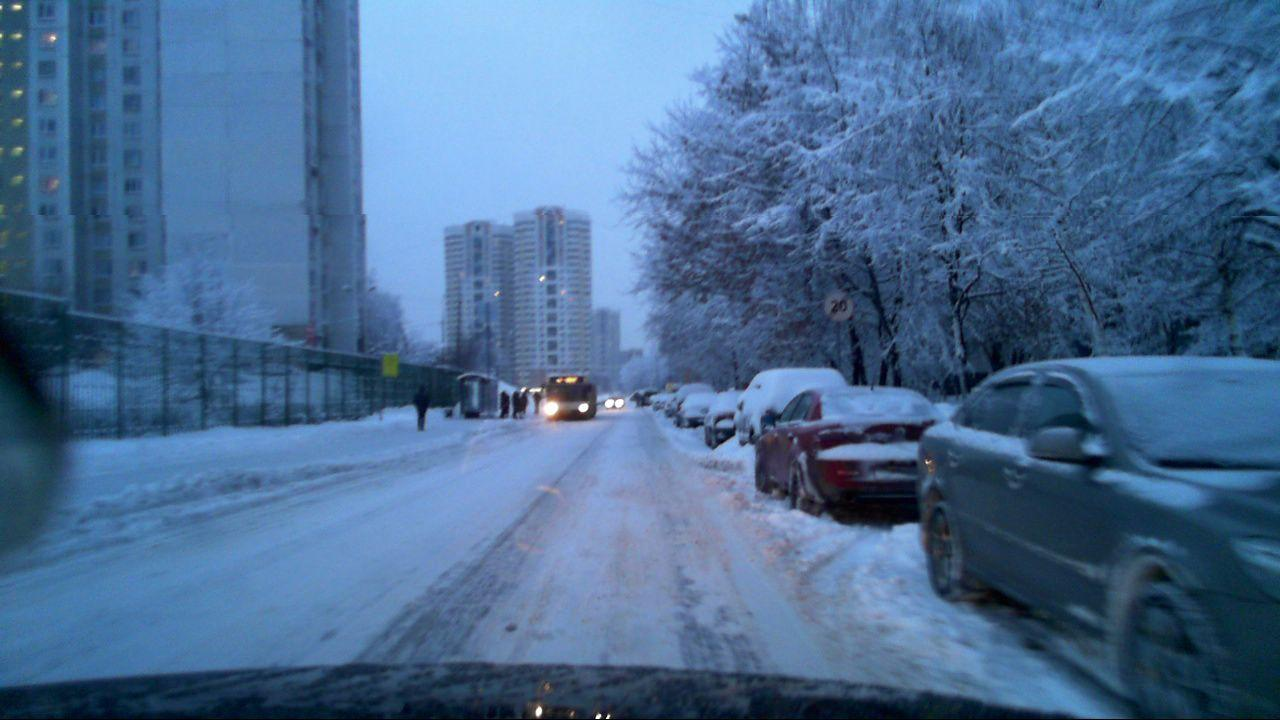3_25: (824, 290, 860, 322)
